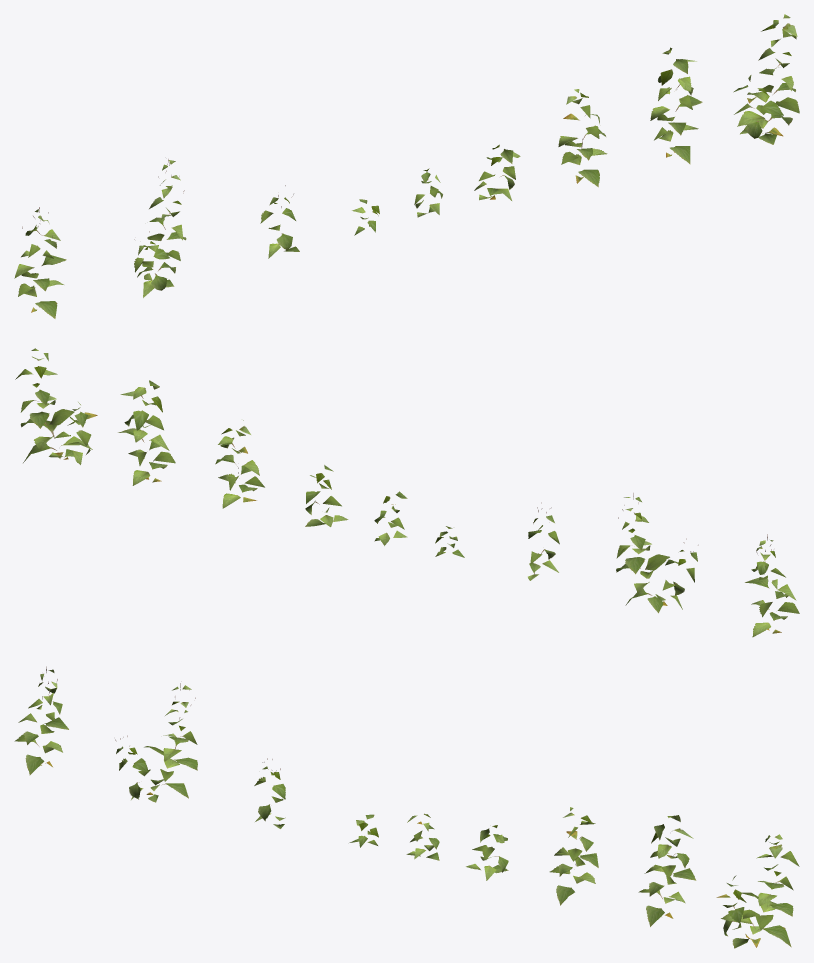
File: ph_shrub_01_lod1.glb
The picture shows the model from 3 angles, top to bottom: view 1: azimuth 30°, elevation 25°; view 2: azimuth 150°, elevation 25°; view 3: azimuth 330°, elevation 25°; orthographic projection. The views are drawn at different scales.
Visible parts, largest first — view 1: shrub_01_a; view 2: shrub_01_a; view 3: shrub_01_a.
Part boxes in pixels (x1,y1,x2,y2): shrub_01_a: (14,14,799,318); shrub_01_a: (15,348,799,637); shrub_01_a: (14,666,799,948).
Bounding box in the file's own units: 2.59 × 0.38 × 0.205.
1 material, 1 textured.
